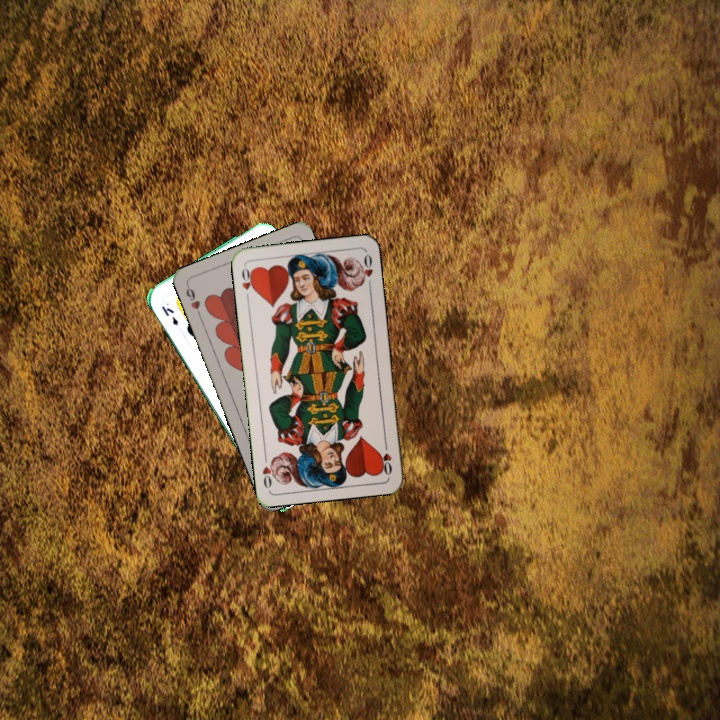EK: (158, 302, 181, 329)
H9: (182, 281, 204, 320)
HO: (238, 262, 257, 303), (377, 437, 395, 478)
